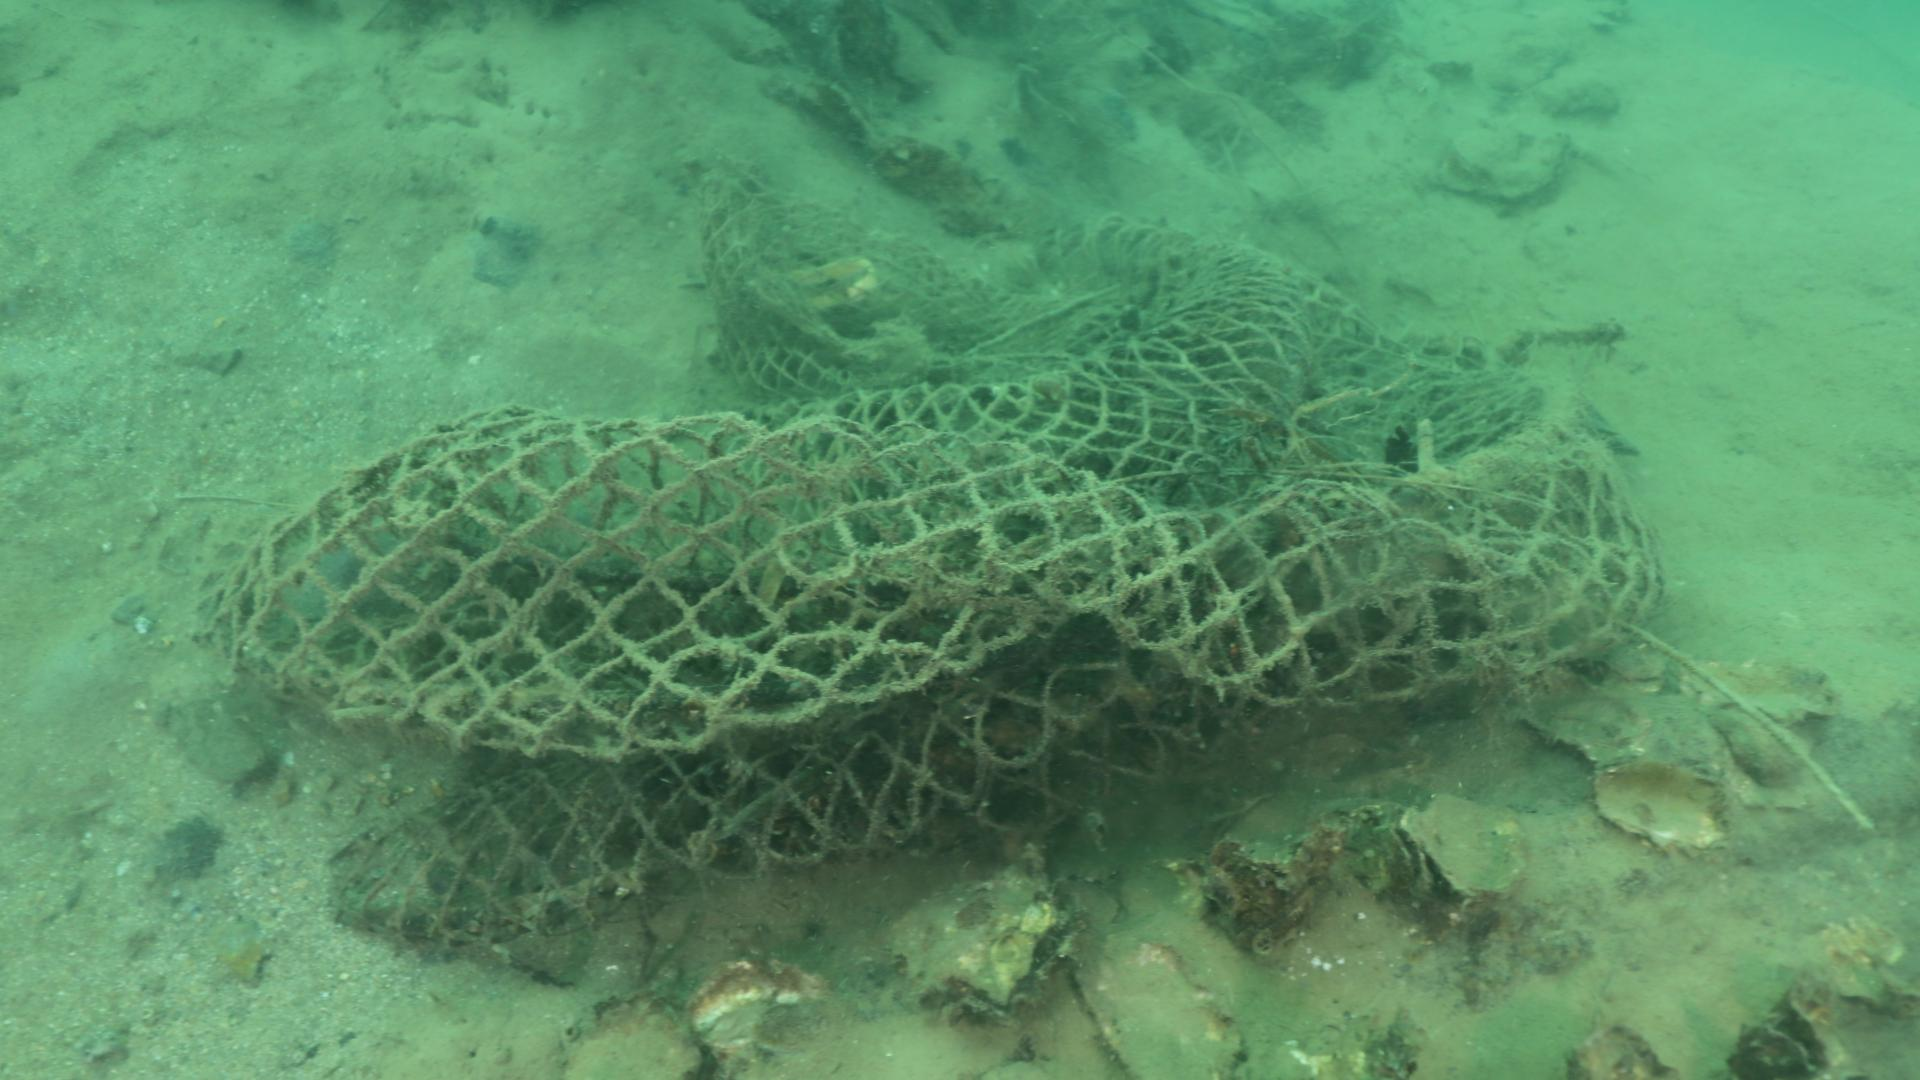fish net: (199, 208, 1672, 942)
